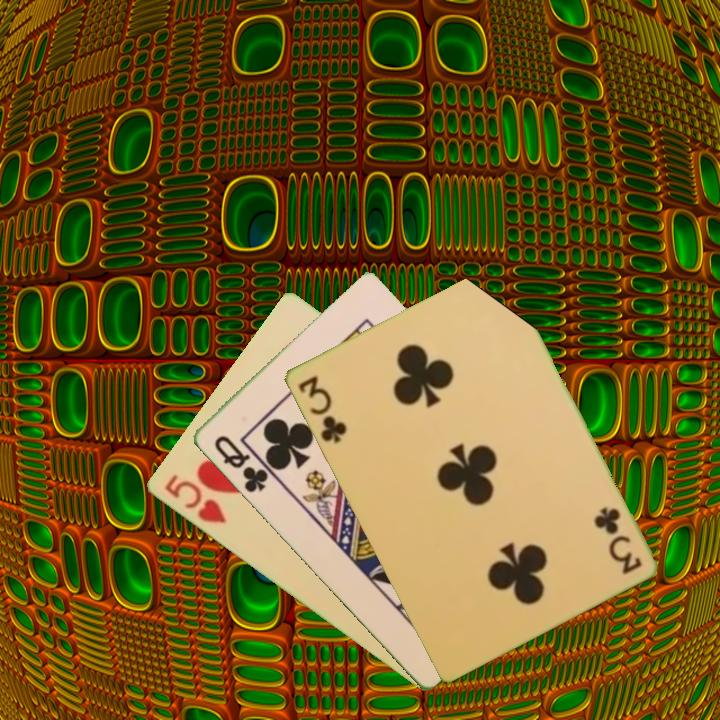3c: (294, 372, 350, 446), (591, 503, 645, 577)
5h: (160, 470, 229, 527)
Qc: (210, 432, 271, 496)
